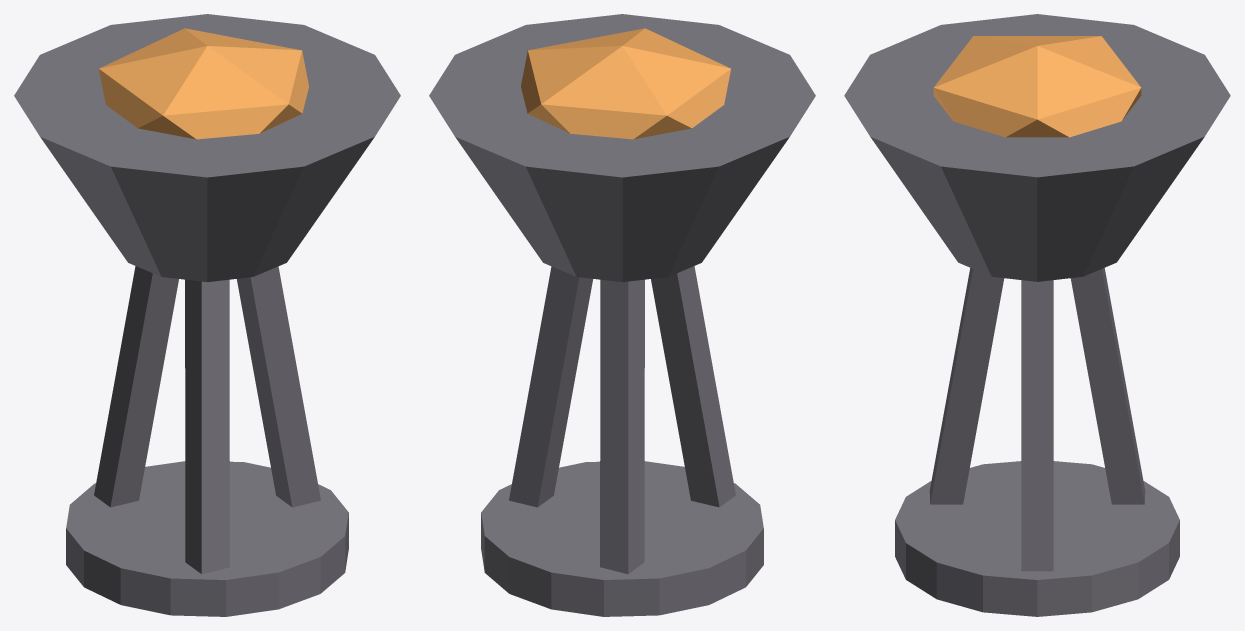
Rendered from brazier.glb.
3 views of the same model, side by side, from view 1: azimuth 30°, elevation 25°; view 2: azimuth 150°, elevation 25°; view 3: azimuth 270°, elevation 25° (orthographic).
Visible parts, largest first — view 1: brazier; view 2: brazier; view 3: brazier.
Part boxes in pixels (x1,y1,x2,y2): brazier: [14, 14, 400, 616]; brazier: [429, 14, 815, 616]; brazier: [844, 14, 1230, 616].
Size of the model in its own units: 1.9 by 2.77 by 1.9.
